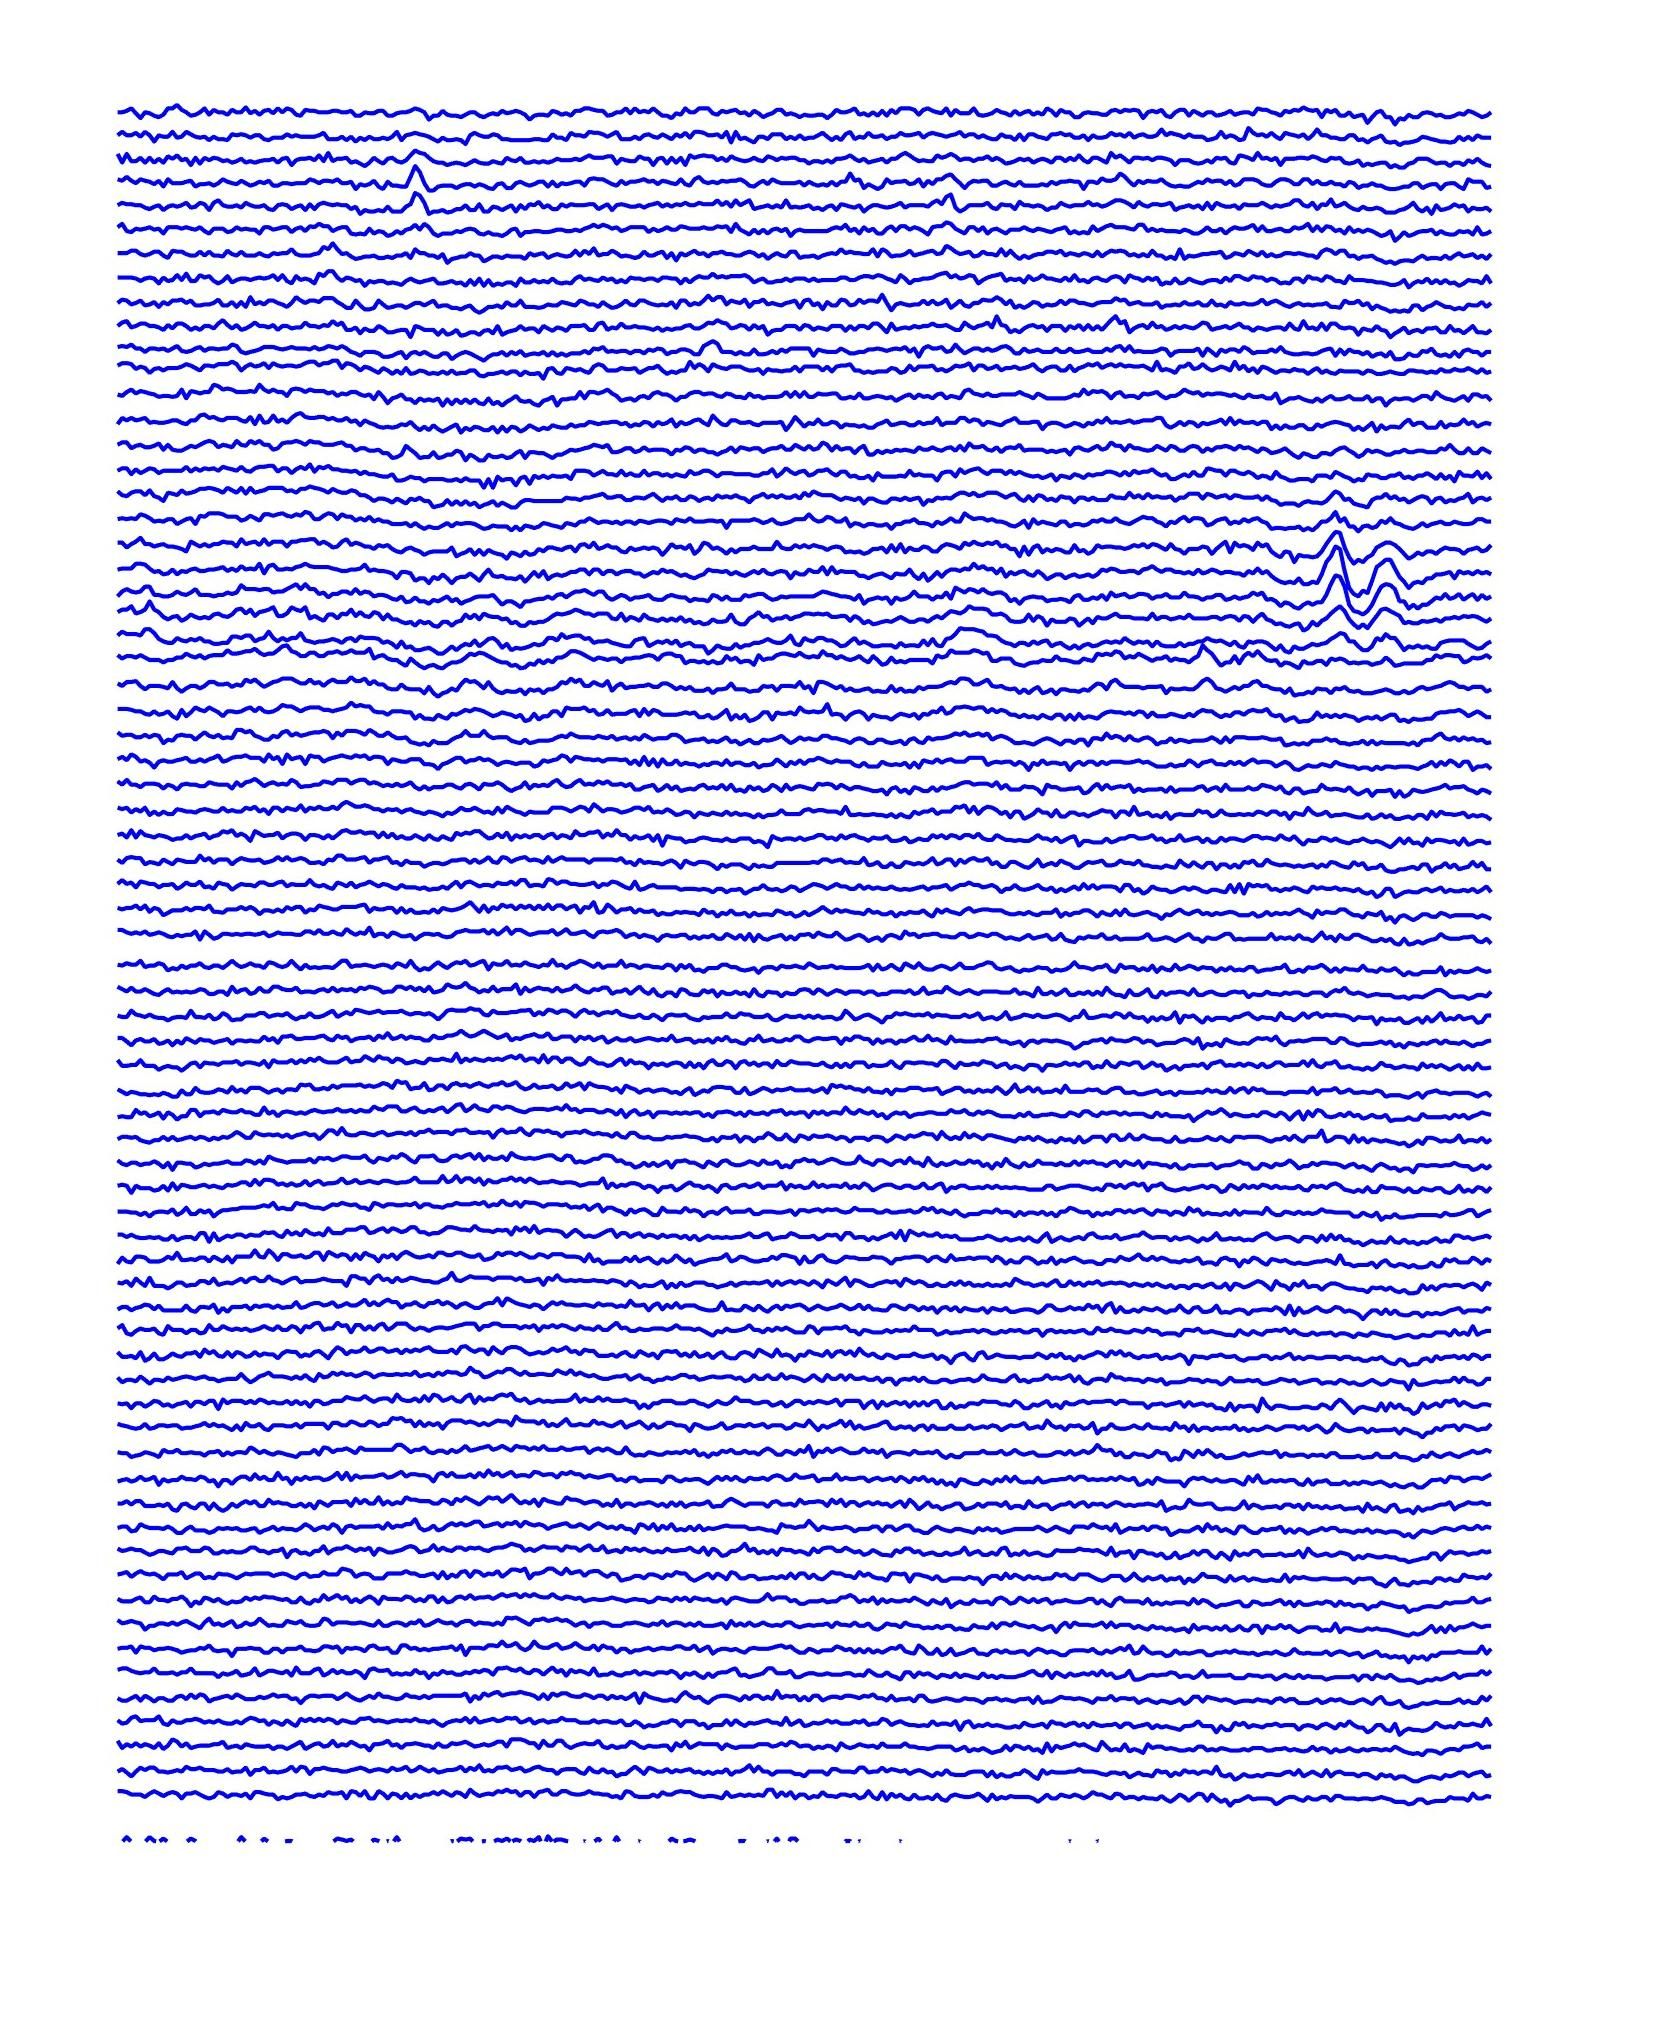defect: (1318, 522, 1418, 654), (386, 135, 450, 246)
